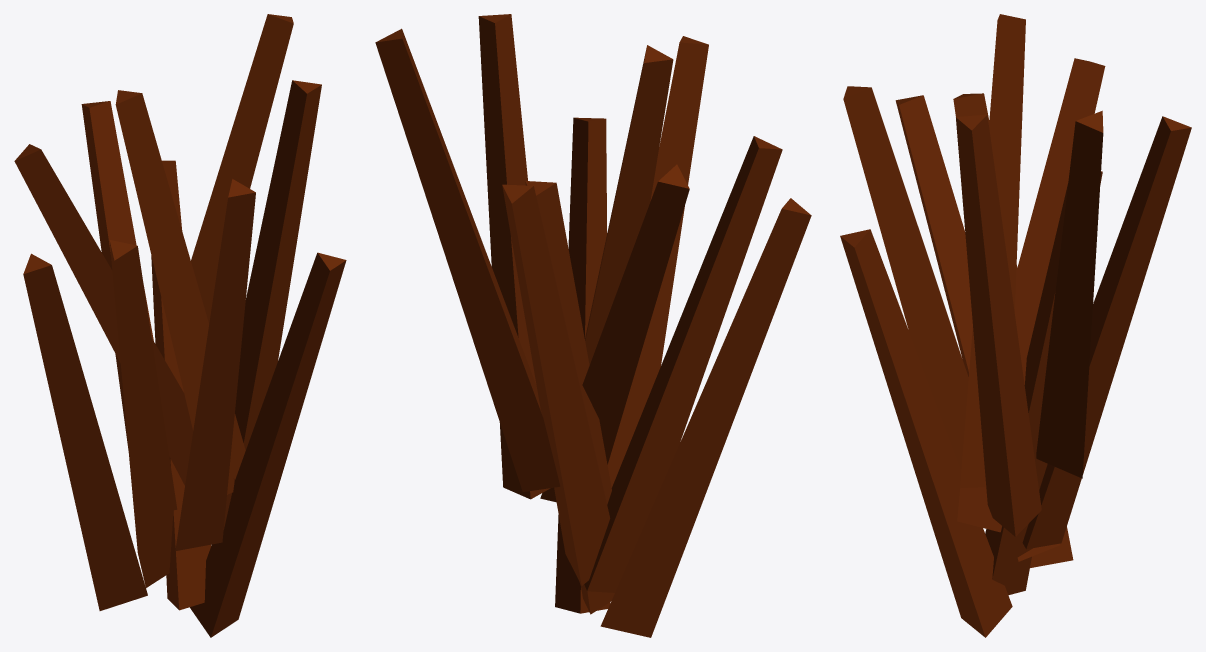
Rendered from Grass1.fbx.
3 renders of one model, left to right at view 1: azimuth 30°, elevation 25°; view 2: azimuth 150°, elevation 25°; view 3: azimuth 270°, elevation 25°, orthographic. The views are drawn at different scales.
Parts seen in each view (by area): view 1: pPrism11; view 2: pPrism11; view 3: pPrism11.
Boxes of the visible parts, bbox=[...] form: pPrism11: bbox=[14, 14, 346, 637]; pPrism11: bbox=[375, 14, 811, 637]; pPrism11: bbox=[840, 14, 1191, 637].
Size of the model in its own units: 848 by 1316 by 734.
